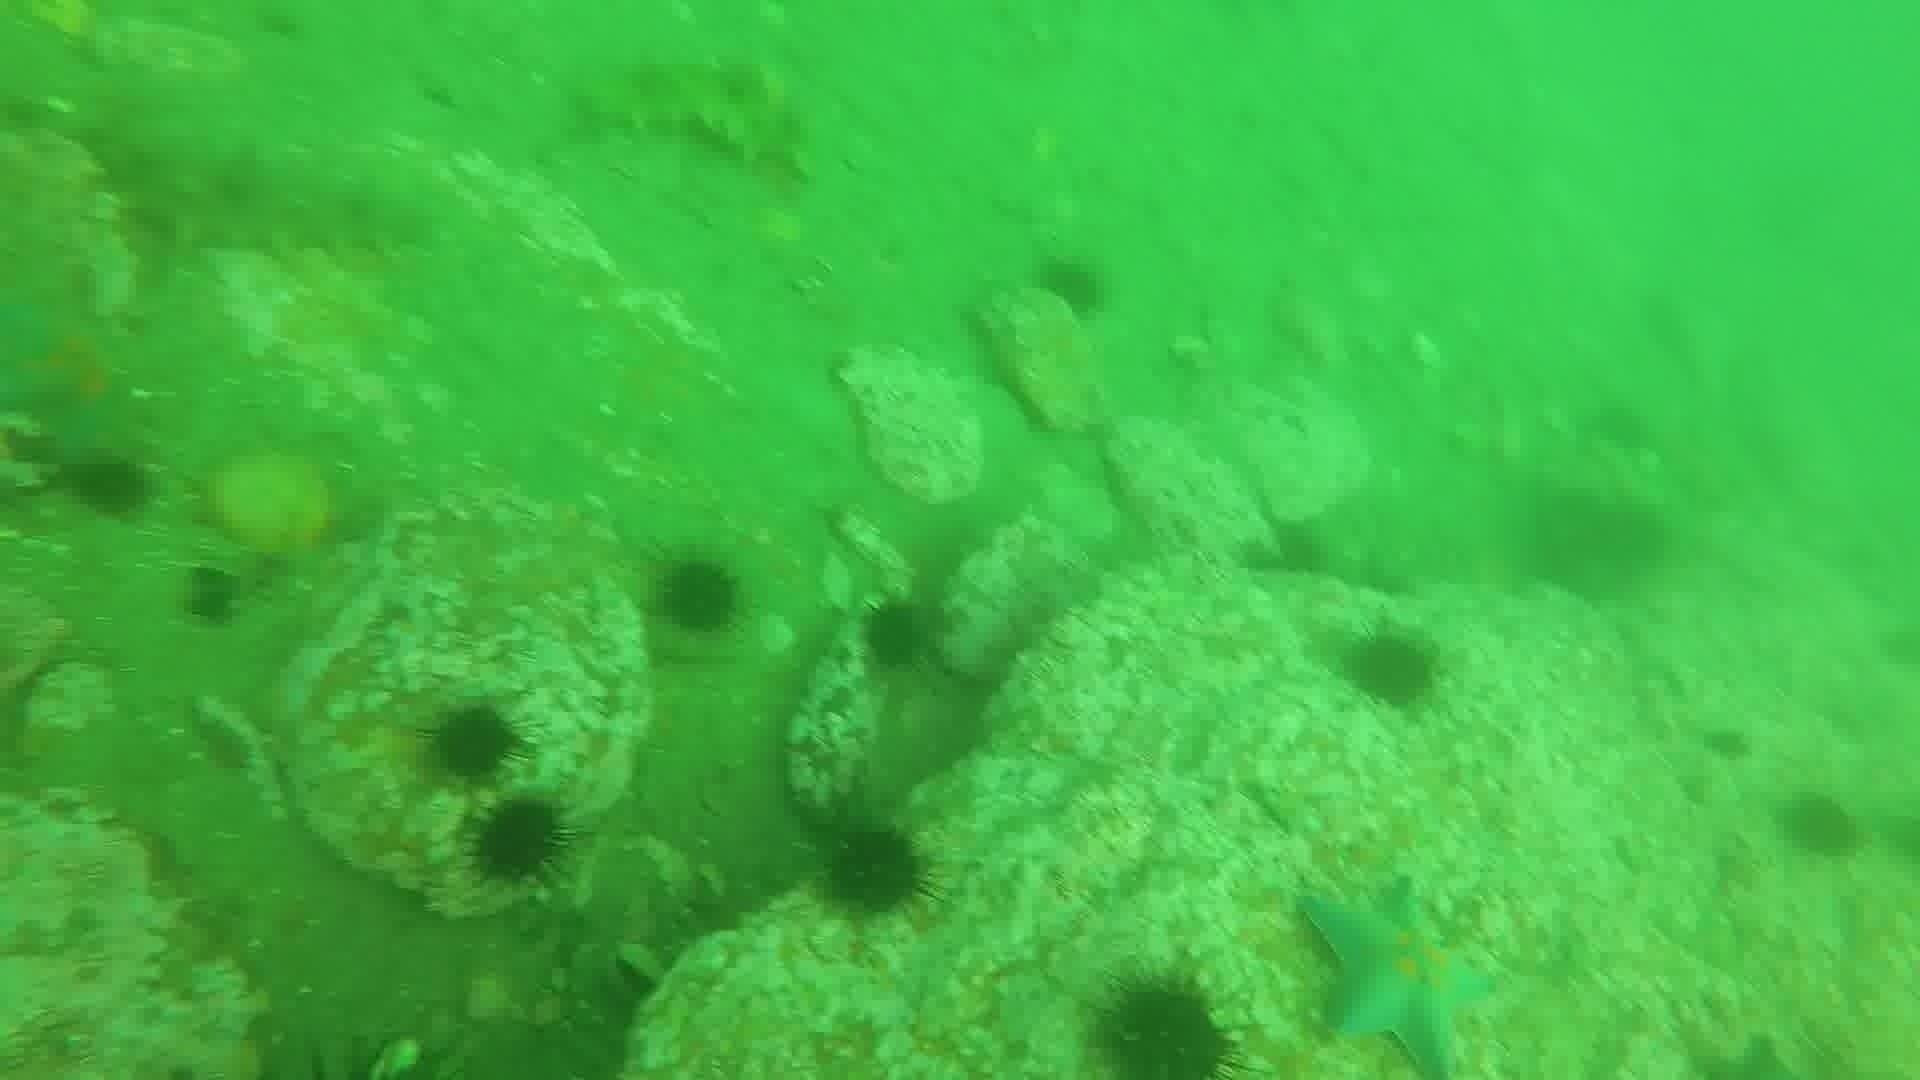echinus: (1520, 487, 1667, 605), (1085, 971, 1245, 1077), (814, 818, 938, 923), (464, 793, 574, 889), (425, 700, 527, 787), (1340, 626, 1444, 712), (651, 553, 745, 640), (856, 593, 938, 675), (1776, 789, 1865, 864), (65, 450, 154, 522), (1033, 253, 1112, 322), (1255, 516, 1331, 582), (177, 564, 247, 630), (1698, 720, 1755, 766)
holothurian: (73, 98, 433, 270), (567, 51, 818, 179)
starfish: (1295, 877, 1501, 1073), (3, 273, 154, 471)
